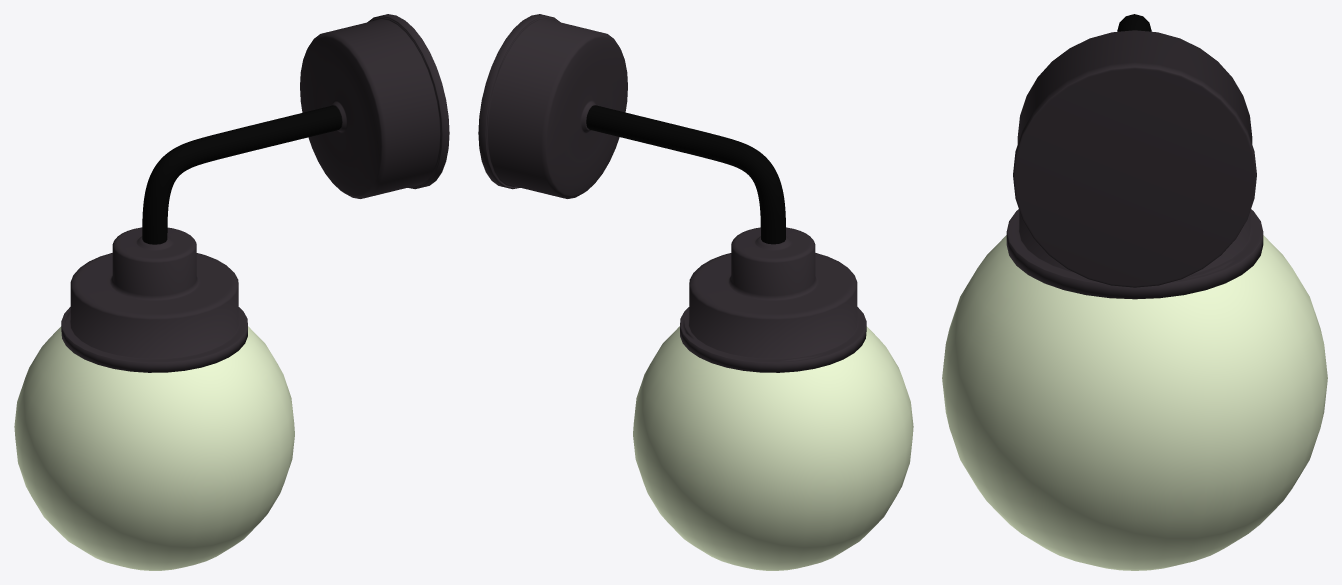
The model's file is wall lamp.fbx.
3 views of the same model, side by side, from view 1: azimuth 30°, elevation 25°; view 2: azimuth 150°, elevation 25°; view 3: azimuth 270°, elevation 25° (orthographic). The views are drawn at different scales.
Visible parts, largest first — view 1: Sphere, Cylinder.001, Cylinder, NurbsPath; view 2: Sphere, Cylinder.001, Cylinder, NurbsPath; view 3: Sphere, Cylinder.001, Cylinder.
Part boxes in pixels (x1,y1,x2,y2): Sphere: (14, 326, 294, 570); Cylinder.001: (300, 14, 449, 198); Cylinder: (61, 227, 247, 372); NurbsPath: (142, 105, 342, 244); Sphere: (633, 326, 913, 570); Cylinder.001: (478, 14, 627, 198); Cylinder: (680, 227, 866, 372); NurbsPath: (586, 105, 785, 244); Sphere: (942, 235, 1327, 570); Cylinder.001: (1013, 30, 1256, 287); Cylinder: (1006, 209, 1263, 299).
Bounding box in the file's own units: 23.11 × 28.25 × 15.11.
